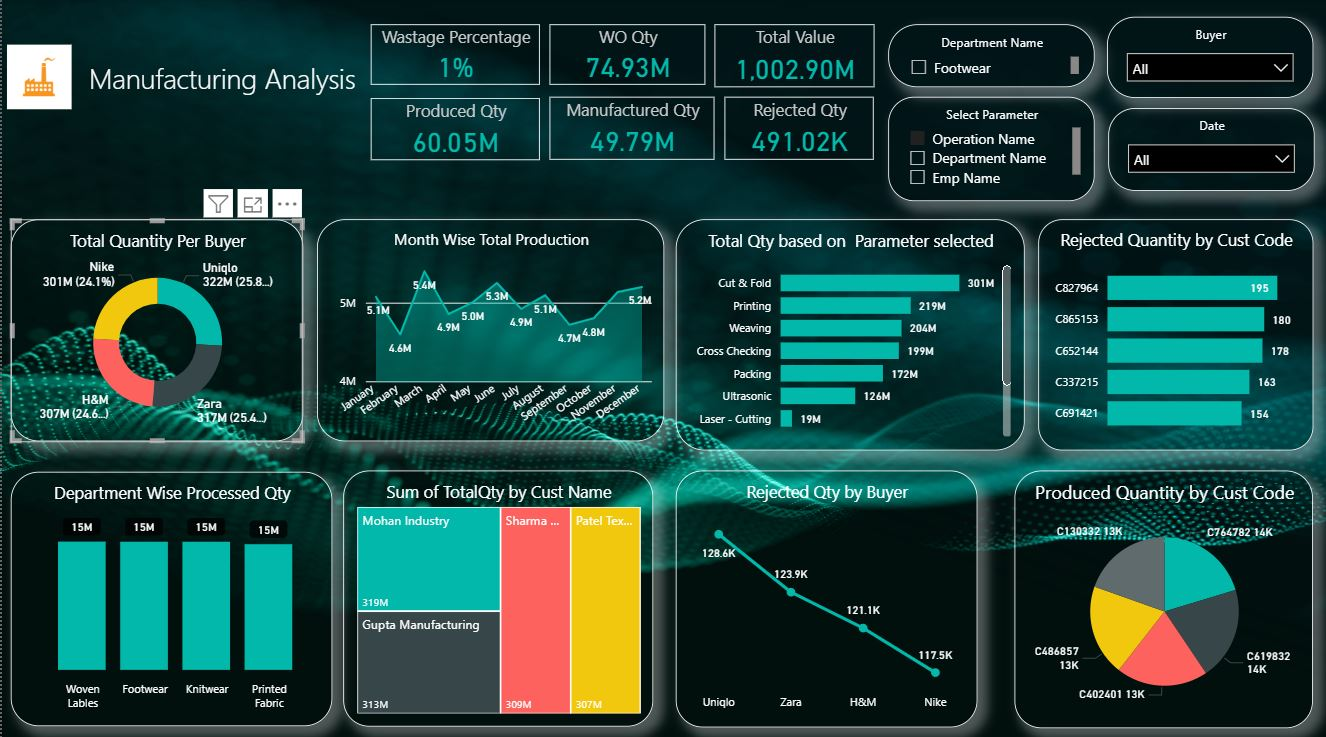

The page's visual inventory and layout, read from the dashboard file:
{"tool":"powerbi","page":{"name":"Page 1","canvas":[1280,720],"ordinal":0},"visuals":[{"type":"stackedAreaChart","title":"Month Wise Total Production","fields":{"Category":["Sheet1.Date.Variation.Date Hierarchy.Month"],"Y":["Sum(Sheet1.Produced Qty)"]},"box":[304,213.5,335.4,214.7],"z":0},{"type":"barChart","title":"Total Qty based on  Parameter selected","fields":{"Category":["Sheet1.Operation Name"],"Y":["Sum(Sheet1.TotalQty)"]},"box":[650.3,213.5,336.6,223.2],"z":1000},{"type":"donutChart","title":"Total Quantity Per Buyer ","fields":{"Category":["Sheet1.Buyer"],"Y":["Sum(Sheet1.TotalQty)"]},"box":[8.4,213.5,282.3,214.7],"z":2000},{"type":"treemap","fields":{"Group":["Sheet1.Cust Name"],"Values":["Sum(Sheet1.TotalQty)"]},"box":[329.3,455.6,299.1,247],"z":3000},{"type":"lineStackedColumnComboChart","title":"Department Wise Processed Qty ","fields":{"Category":["Sheet1.Department Name"],"Y":["Sum(Sheet1.Processed Qty)"]},"box":[8.2,456.9,310.1,245.6],"z":4000},{"type":"lineChart","title":"Rejected Qty by Buyer","fields":{"Category":["Sheet1.Buyer"],"Y":["Sum(Sheet1.Rejected Qty)"]},"box":[650.4,455.6,290.9,248.4],"z":5000},{"type":"card","title":"Manufactured Qty","fields":{"Values":["Sum(Total manufactured quantity.Sum of today Manufactured qty)"]},"box":[528.7,95.8,159.2,61],"z":6000},{"type":"card","title":"Produced Qty","fields":{"Values":["Sum(Sheet1.Produced Qty)"]},"box":[355.8,97,163,59.7],"z":7000},{"type":"card","title":"WO Qty","fields":{"Values":["Sum(Work Order Quantity.Sum of WO Qty)"]},"box":[528.7,24.9,150.5,58.5],"z":8000},{"type":"card","title":"Wastage Percentage\n","fields":{"Values":["Sum(Wastage %age.Column5)"]},"box":[355.8,24.9,163,58.5],"z":9000},{"type":"card","title":"Total Value\n","fields":{"Values":["Sum(Total Value.Sum of TotalValue)"]},"box":[687.9,24.9,154.3,61],"z":10000},{"type":"slicer","title":"Buyer","fields":{"Values":["Sheet1.Buyer"]},"box":[1066.5,18.1,199.1,78.4],"z":11000},{"type":"slicer","title":"Date","fields":{"Values":["Sheet1.Date.Variation.Date Hierarchy.Month"]},"box":[1067.7,106.2,199.1,79.6],"z":12000},{"type":"slicer","title":"Department Name ","fields":{"Values":["Sheet1.Department Name"]},"box":[855.8,24.9,199,61],"z":13000},{"type":"textbox","box":[56.3,53.8,311.8,63.6],"z":14000},{"type":"card","title":"Rejected Qty","fields":{"Values":["Sum(Sheet1.Rejected Qty)"]},"box":[697.9,95.8,144.3,61],"z":15000},{"type":"image","box":[0,36.7,72.1,80.7],"z":16000},{"type":"clusteredBarChart","title":"Rejected Quantity by Cust Code","fields":{"Category":["Sheet1.Cust Code"],"Y":["Sum(Sheet1.Rejected Qty)"]},"box":[1000.1,213.5,265.4,223.2],"z":17000},{"type":"pieChart","title":"Produced Quantity by Cust Code","fields":{"Category":["Sheet1.Cust Code"],"Y":["Sum(Sheet1.Produced Qty)"]},"box":[977.2,456,288.3,248.5],"z":18000},{"type":"slicer","title":"Select Parameter ","fields":{"Values":["Parameter1.Parameter1"]},"box":[855.8,95.8,199,100.8],"z":19000}]}

Visuals, with their boxes in screenshot pixels (x1, y1, x2, y2), scaled from the page's 1280x720 canvas onto the 1326x737 screenshot:
"Month Wise Total Production" stackedAreaChart: (315, 219, 662, 438)
"Total Qty based on  Parameter selected" barChart: (674, 219, 1022, 447)
"Total Quantity Per Buyer " donutChart: (9, 219, 301, 438)
treemap - Sheet1.Cust Name x Sum(Sheet1.TotalQty): (341, 466, 651, 719)
"Department Wise Processed Qty " lineStackedColumnComboChart: (8, 468, 330, 719)
"Rejected Qty by Buyer" lineChart: (674, 466, 975, 721)
"Manufactured Qty" card: (548, 98, 713, 161)
"Produced Qty" card: (369, 99, 537, 160)
"WO Qty" card: (548, 25, 704, 85)
"Wastage Percentage
" card: (369, 25, 537, 85)
"Total Value
" card: (713, 25, 872, 88)
"Buyer" slicer: (1105, 19, 1311, 99)
"Date" slicer: (1106, 109, 1312, 190)
"Department Name " slicer: (887, 25, 1093, 88)
textbox: (58, 55, 381, 120)
"Rejected Qty" card: (723, 98, 872, 161)
image: (0, 38, 75, 120)
"Rejected Quantity by Cust Code" clusteredBarChart: (1036, 219, 1311, 447)
"Produced Quantity by Cust Code" pieChart: (1012, 467, 1311, 721)
"Select Parameter " slicer: (887, 98, 1093, 201)
